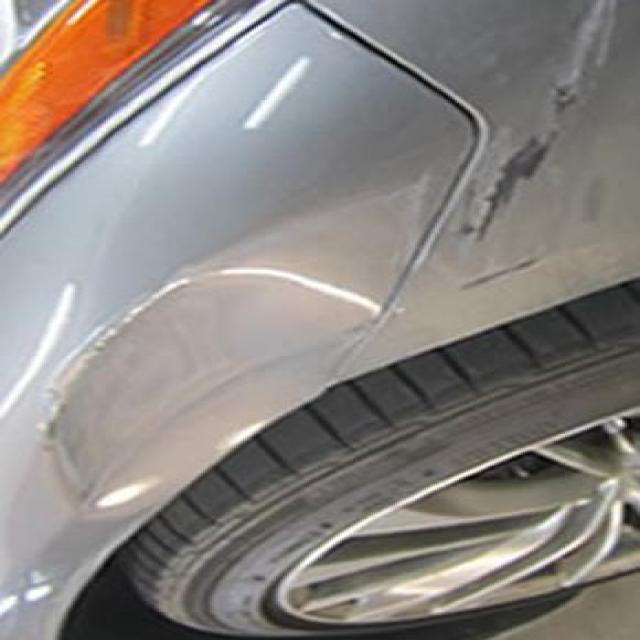scratch: (448, 5, 623, 291)
